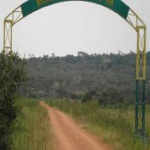Road: (23, 92, 111, 150)
Uncultivated: (85, 102, 134, 137)
